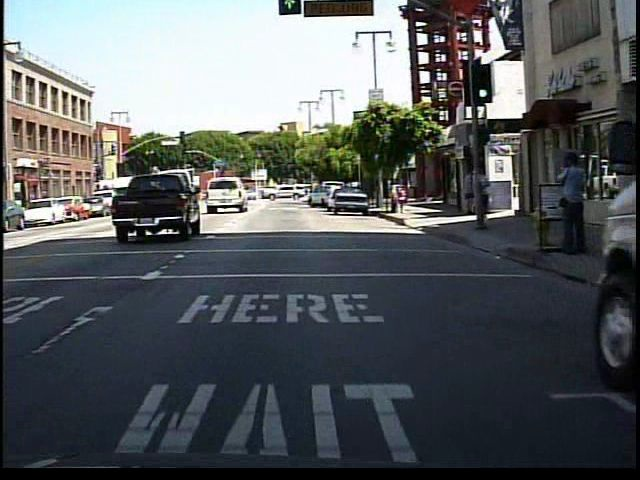person: (470, 162, 495, 230), (461, 169, 475, 216)
